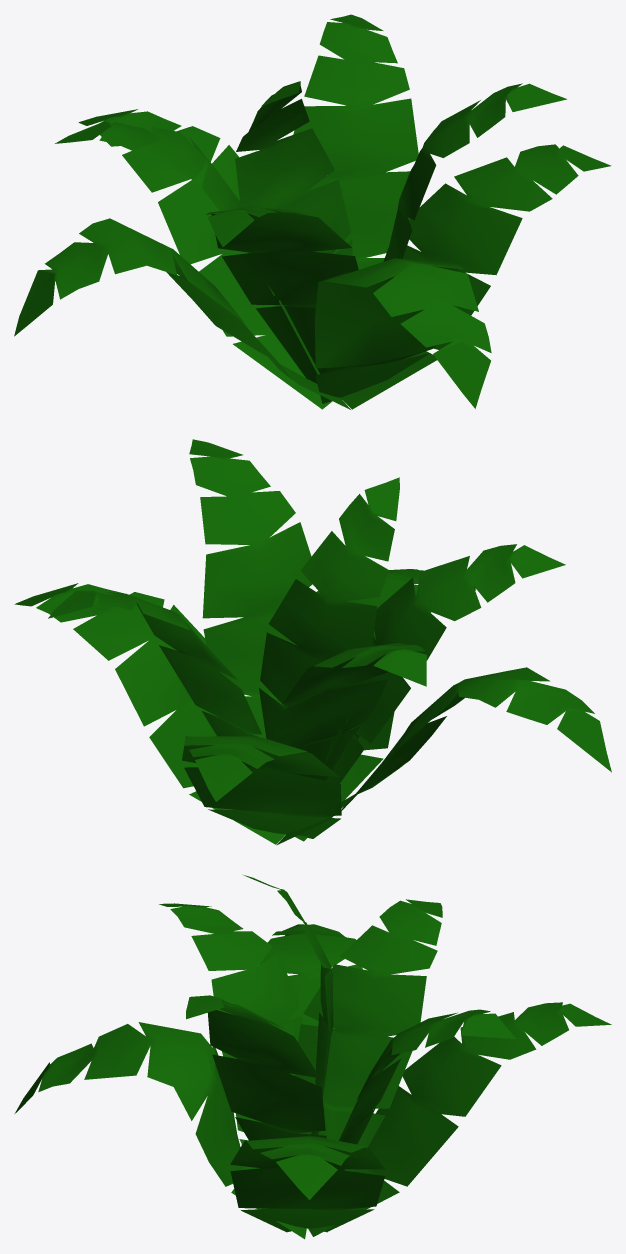
Rendered from Fern01.fbx.
The picture shows the model from 3 angles, top to bottom: view 1: azimuth 30°, elevation 25°; view 2: azimuth 150°, elevation 25°; view 3: azimuth 270°, elevation 25°; orthographic projection. The views are drawn at different scales.
Visible parts, largest first — view 1: Fern01; view 2: Fern01; view 3: Fern01.
Part boxes in pixels (x1,y1,x2,y2): Fern01: (14, 14, 611, 409); Fern01: (14, 439, 611, 845); Fern01: (14, 874, 611, 1239).
Bounding box in the file's own units: 3.07 × 1.73 × 2.9.
